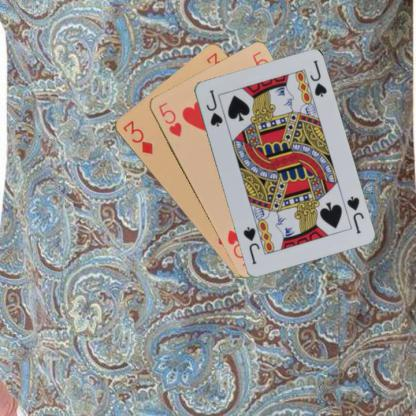3d: (119, 118, 154, 156)
5h: (156, 99, 183, 138)
Js: (344, 193, 364, 235), (204, 86, 224, 127)
